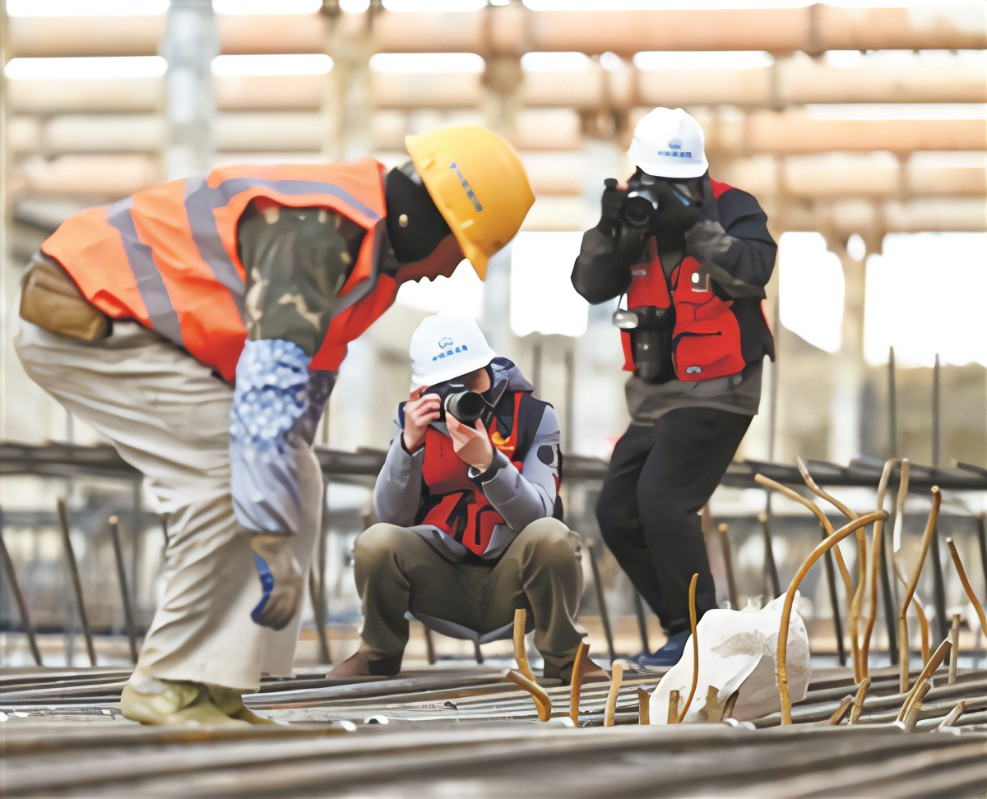safetyhat: (19, 70, 546, 687), (576, 87, 799, 477), (380, 307, 581, 626)
